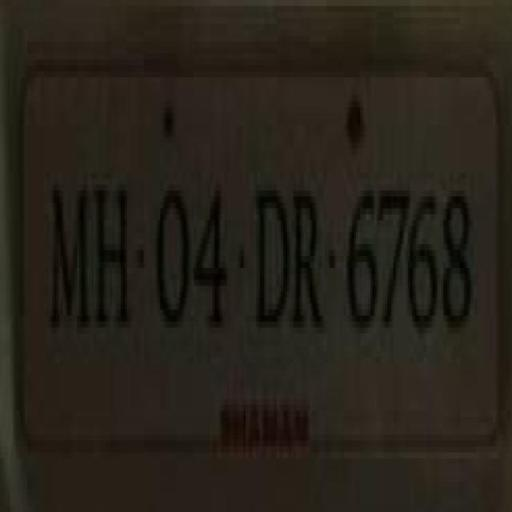number plate: (0, 71, 512, 458)
